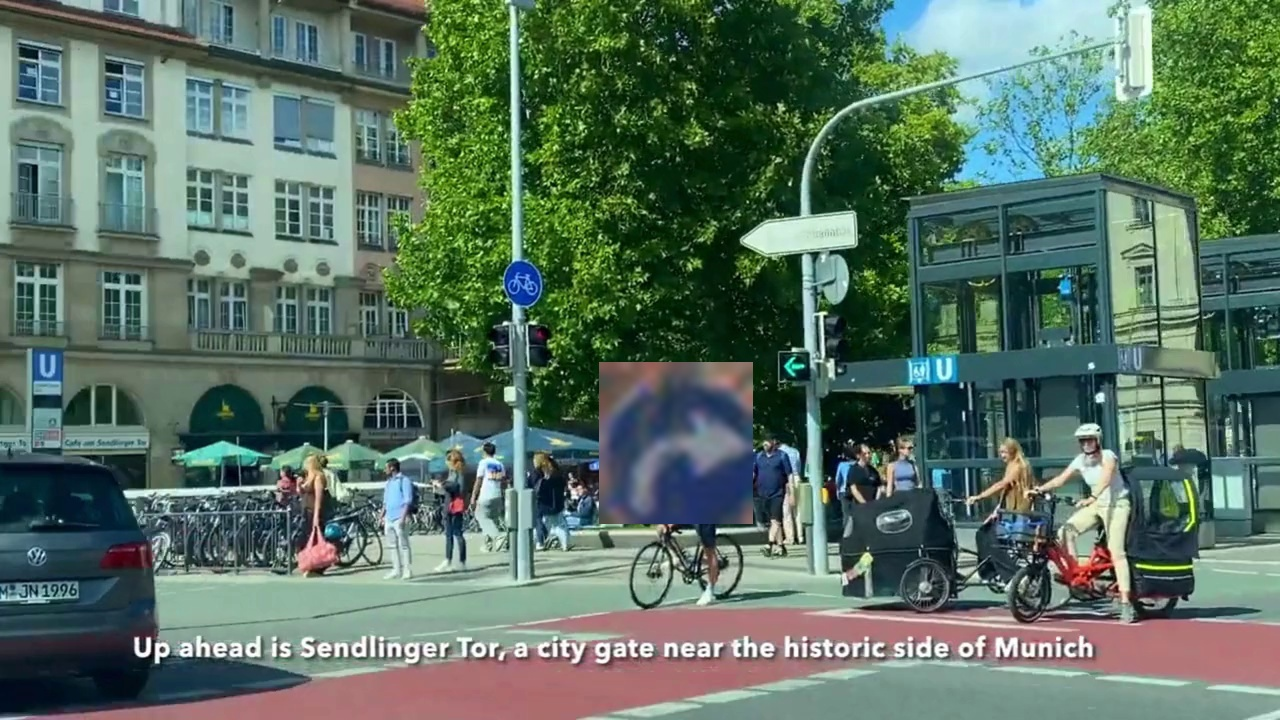Turn right: (599, 362, 753, 524)
